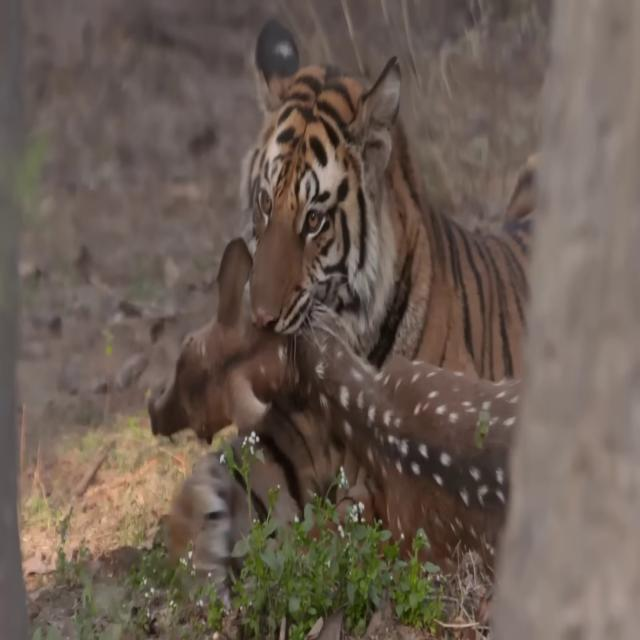tiger: (240, 15, 539, 381)
